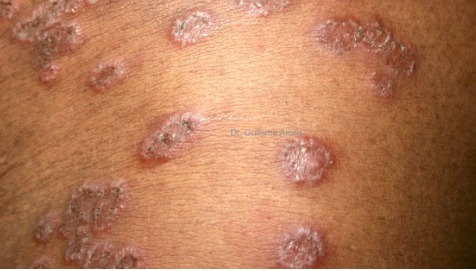Ringworm: (311, 7, 421, 101), (135, 112, 218, 162), (65, 181, 135, 237), (274, 128, 336, 188), (270, 226, 331, 271), (159, 6, 224, 48), (84, 59, 136, 94), (24, 218, 59, 251), (38, 61, 63, 86)
